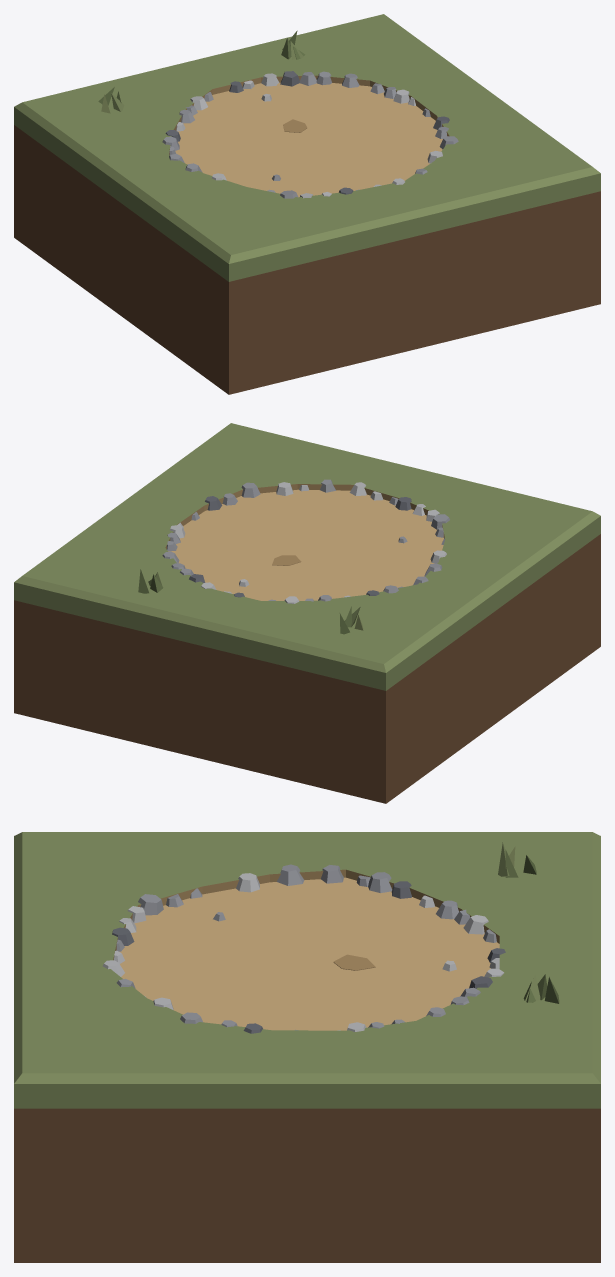
Rendered from Road Single.fbx.
The picture shows the model from 3 angles, top to bottom: view 1: azimuth 30°, elevation 25°; view 2: azimuth 150°, elevation 25°; view 3: azimuth 270°, elevation 25°; orthographic projection. The views are drawn at different scales.
Parts seen in each view (by area): view 1: Road Single; view 2: Road Single; view 3: Road Single.
Boxes of the visible parts, box(x1,y1,x2,y2) form: Road Single: box(14, 14, 600, 394); Road Single: box(14, 423, 600, 803); Road Single: box(14, 832, 600, 1262).
Bounding box in the file's own units: 1 × 0.4033 × 1.
